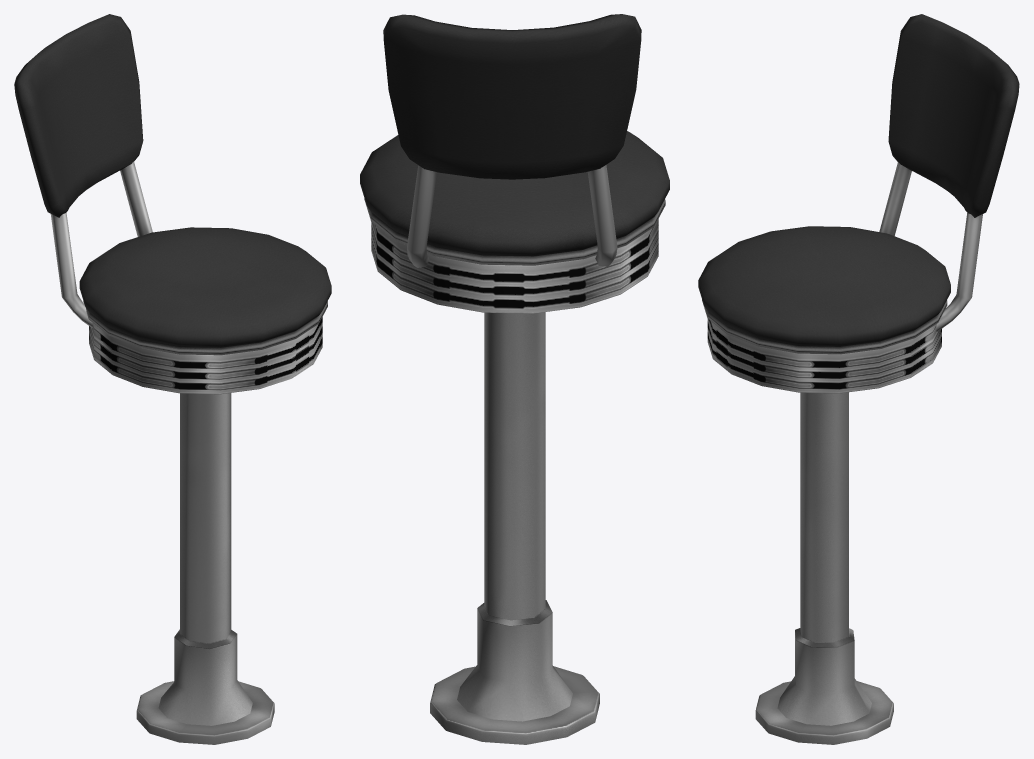
Rendered from chair.fbx.
3 renders of one model, left to right at view 1: azimuth 30°, elevation 25°; view 2: azimuth 150°, elevation 25°; view 3: azimuth 270°, elevation 25°, orthographic. The views are drawn at different scales.
Visible parts, largest first — view 1: Chair, ChairBack; view 2: Chair, ChairBack; view 3: Chair, ChairBack.
Boxes of the visible parts, box(x1,y1,x2,y2) form: Chair: box(79, 227, 331, 744); ChairBack: box(14, 14, 152, 327); Chair: box(360, 131, 669, 744); ChairBack: box(383, 14, 641, 267); Chair: box(698, 226, 950, 744); ChairBack: box(879, 14, 1019, 331).
Size of the model in its own units: 43.02 by 103 by 47.18.
